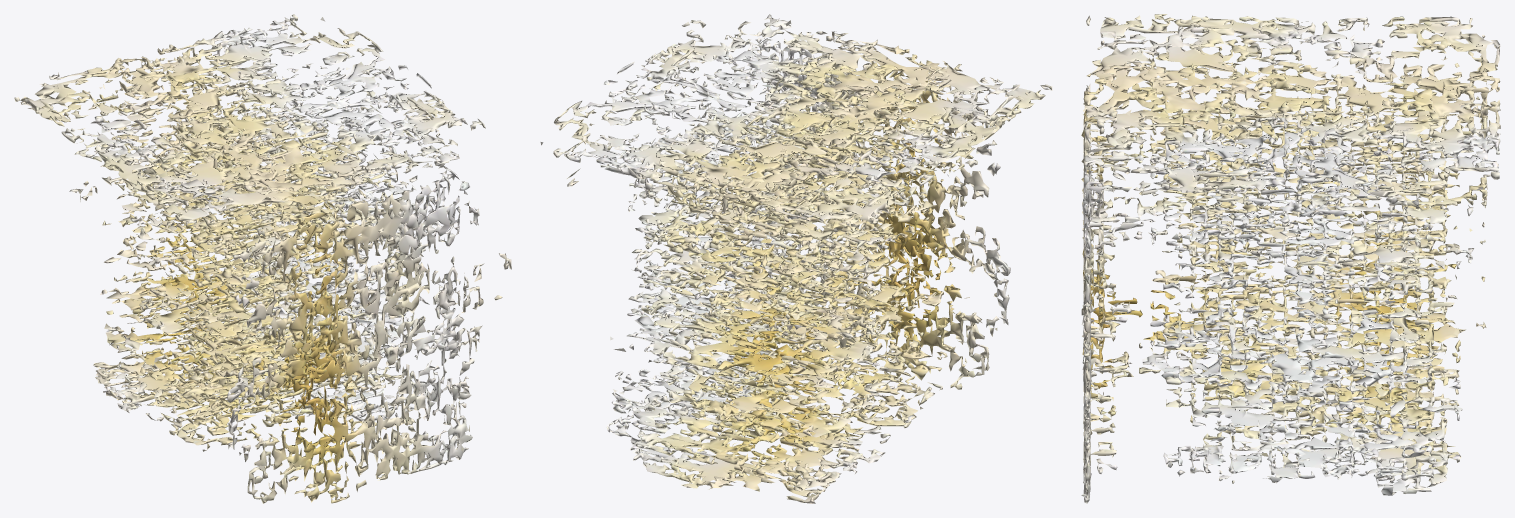
Rendered from workshop_crate.glb.
3 views of the same model, side by side, from view 1: azimuth 30°, elevation 25°; view 2: azimuth 150°, elevation 25°; view 3: azimuth 270°, elevation 25° (orthographic). The views are drawn at different scales.
Parts seen in each view (by area): view 1: world; view 2: world; view 3: world.
Boxes of the visible parts, left/top/right/bottom form: world: left=14, top=14, right=511, bottom=503; world: left=540, top=14, right=1052, bottom=503; world: left=1081, top=14, right=1500, bottom=503.
Size of the model in its own units: 0.9884 by 0.9328 by 0.9918.
1 material, 1 textured.
